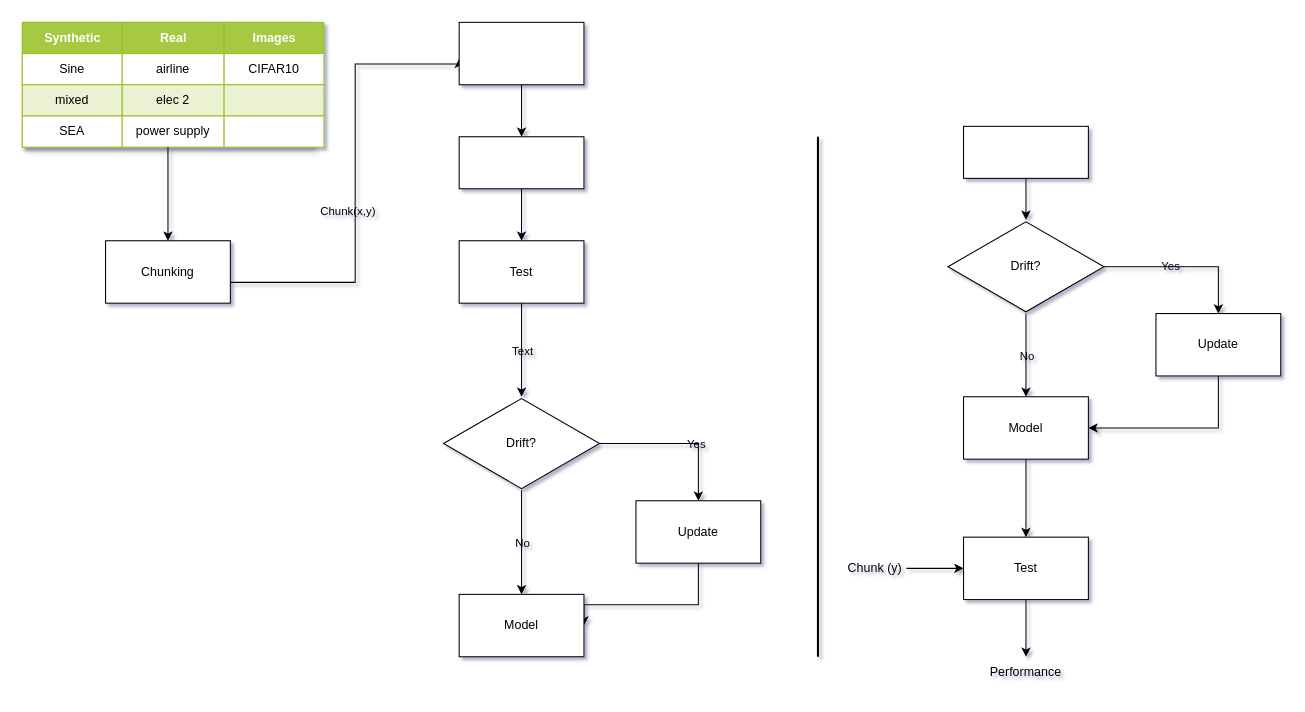
Some shapes in this 1305 by 712 pixel diagram are drawn without their labels. Here are the shapes that lost their labels. From the top down, the centre of each, then its label:
[521,53]: Initial Model
[521,162]: 1. Need Label Chunk (x,y)
[1025,151]: 2. No Need Chunk(x)
